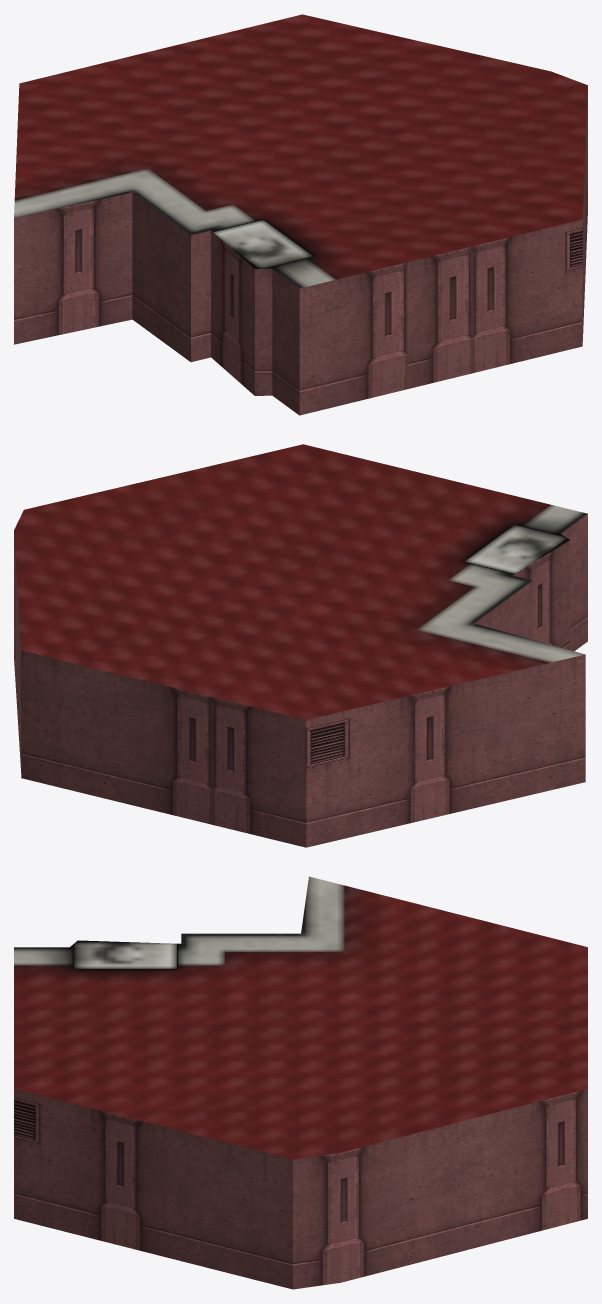
The model's file is hardened_roof66.glb.
3 views of the same model, one above another, from view 1: azimuth 30°, elevation 25°; view 2: azimuth 150°, elevation 25°; view 3: azimuth 270°, elevation 25° (orthographic). The views are drawn at different scales.
Visible parts, largest first — view 1: buildings/saxarba/hard/hardened_roof66; view 2: buildings/saxarba/hard/hardened_roof66; view 3: buildings/saxarba/hard/hardened_roof66.
Boxes of the visible parts, x1,y1,x2,y2 form: buildings/saxarba/hard/hardened_roof66: [14, 14, 587, 415]; buildings/saxarba/hard/hardened_roof66: [14, 444, 587, 847]; buildings/saxarba/hard/hardened_roof66: [14, 876, 587, 1289].
Size of the model in its own units: 84 by 18 by 72.
